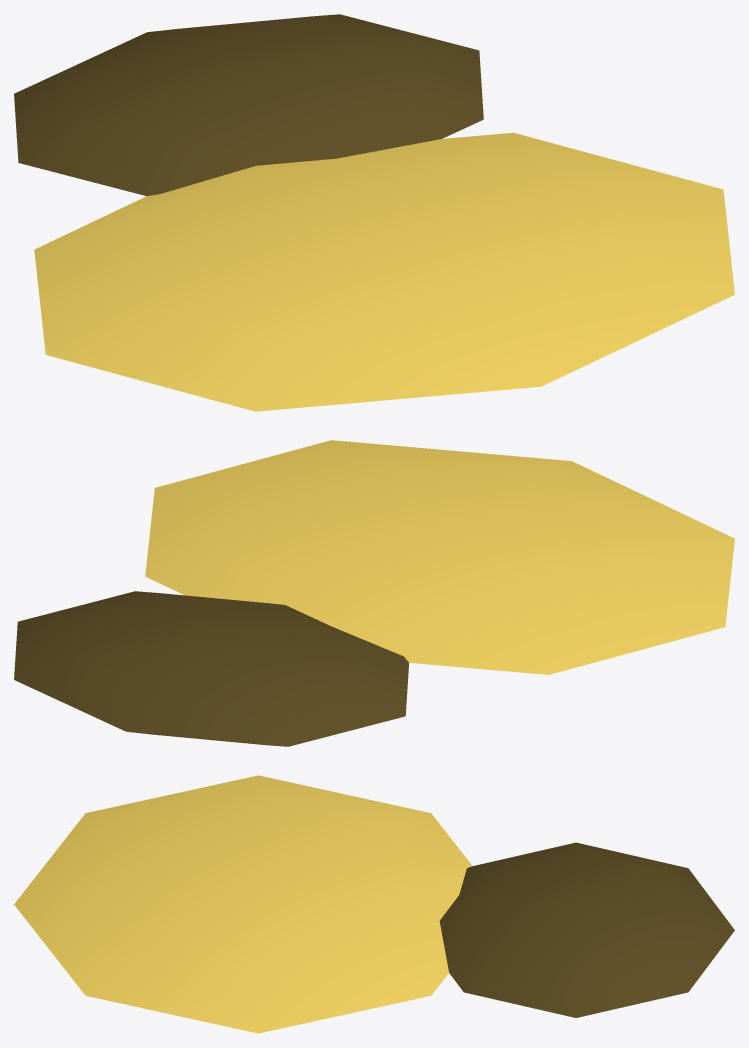
Rendered from ButterflyYellow_WingR.fbx.
The picture shows the model from 3 angles, top to bottom: view 1: azimuth 30°, elevation 25°; view 2: azimuth 150°, elevation 25°; view 3: azimuth 270°, elevation 25°; orthographic projection. The views are drawn at different scales.
Parts seen in each view (by area): view 1: ButterflyYellow_WingR_EXP; view 2: ButterflyYellow_WingR_EXP; view 3: ButterflyYellow_WingR_EXP.
Boxes of the visible parts, x1,y1,x2,y2 form: ButterflyYellow_WingR_EXP: [14, 14, 734, 411]; ButterflyYellow_WingR_EXP: [14, 440, 734, 746]; ButterflyYellow_WingR_EXP: [14, 775, 734, 1033].
Bounding box in the file's own units: 0.05 × 0.005 × 0.059.
